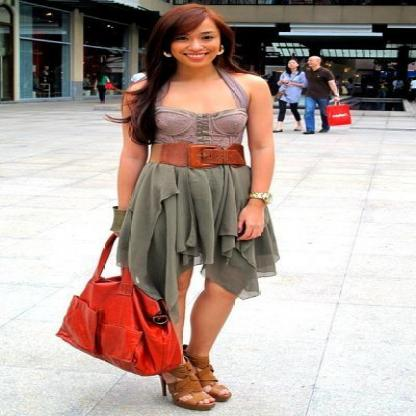bag: (56, 258, 183, 375)
shirt: (155, 69, 252, 150)
shoe: (149, 342, 231, 410)
skirt: (100, 159, 279, 324)
